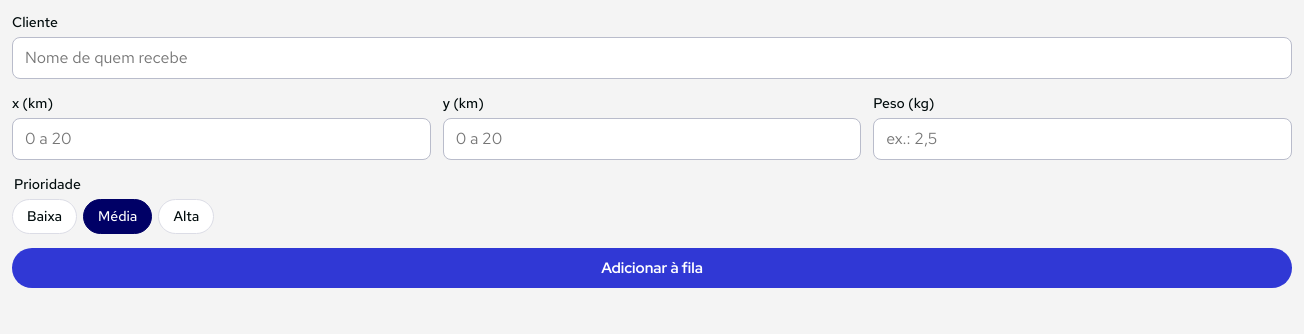
Test: <PedidoForm /> › recusa coordenada fora da cidade (0 a 20)
Type "25" into the field labelled "x (km)".
click(221, 139); type("25")  # box top-left (12, 118), bottom-right (431, 160)
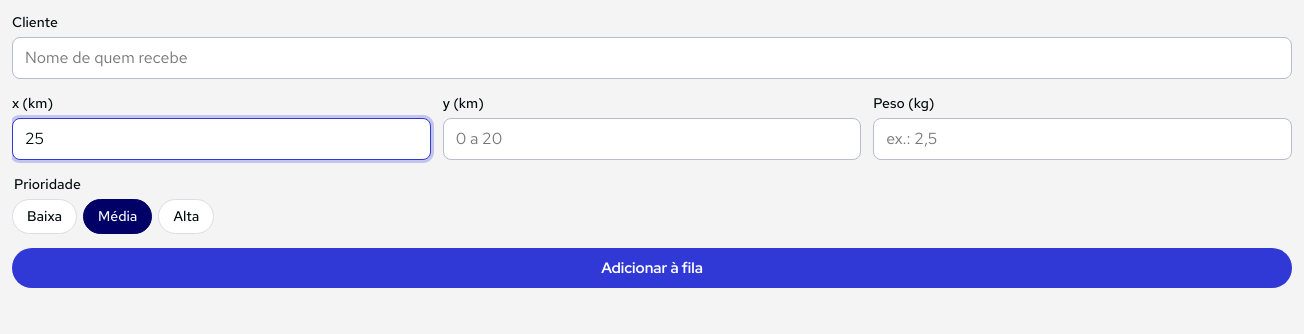
Click the button "Adicionar à fila".
click(652, 268)  # box top-left (12, 248), bottom-right (1292, 288)
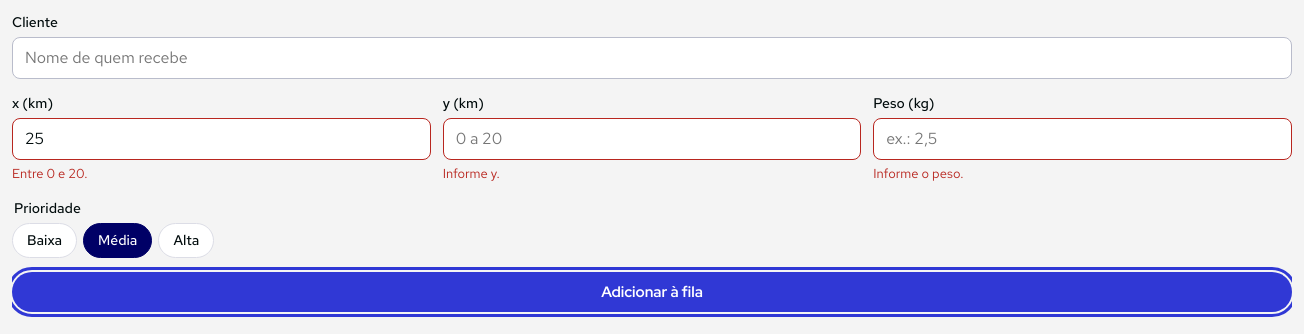
Expected: the text "Entre 0 e 20." is shown, top-left (12, 165), bottom-right (88, 182)
